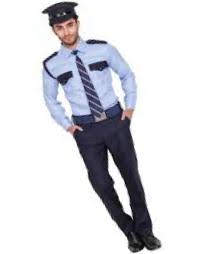uniform: (34, 1, 180, 245)
